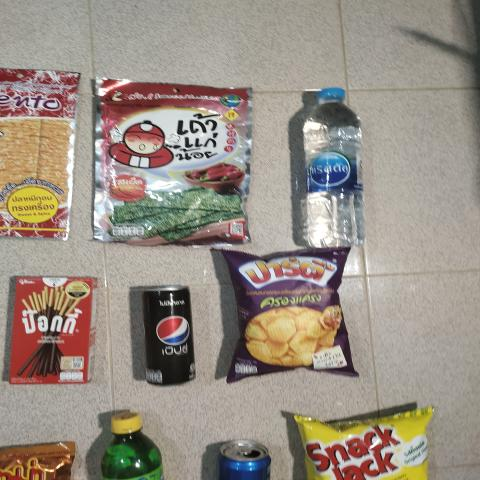crystal: (302, 80, 366, 253)
party_purple: (230, 251, 347, 370)
pepsi_black: (141, 283, 203, 393)
pokki: (13, 278, 96, 390)
taokaenoi: (96, 90, 244, 237)
